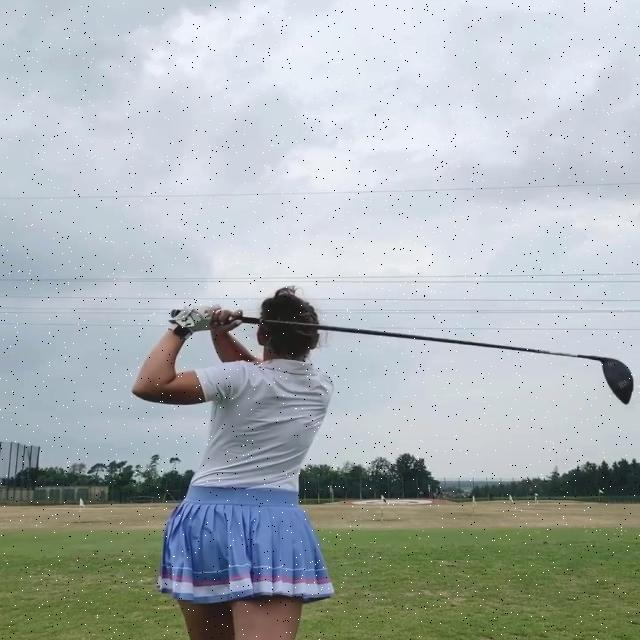golf club-handle: (171, 309, 634, 404)
golf club-head: (602, 357, 634, 404)
